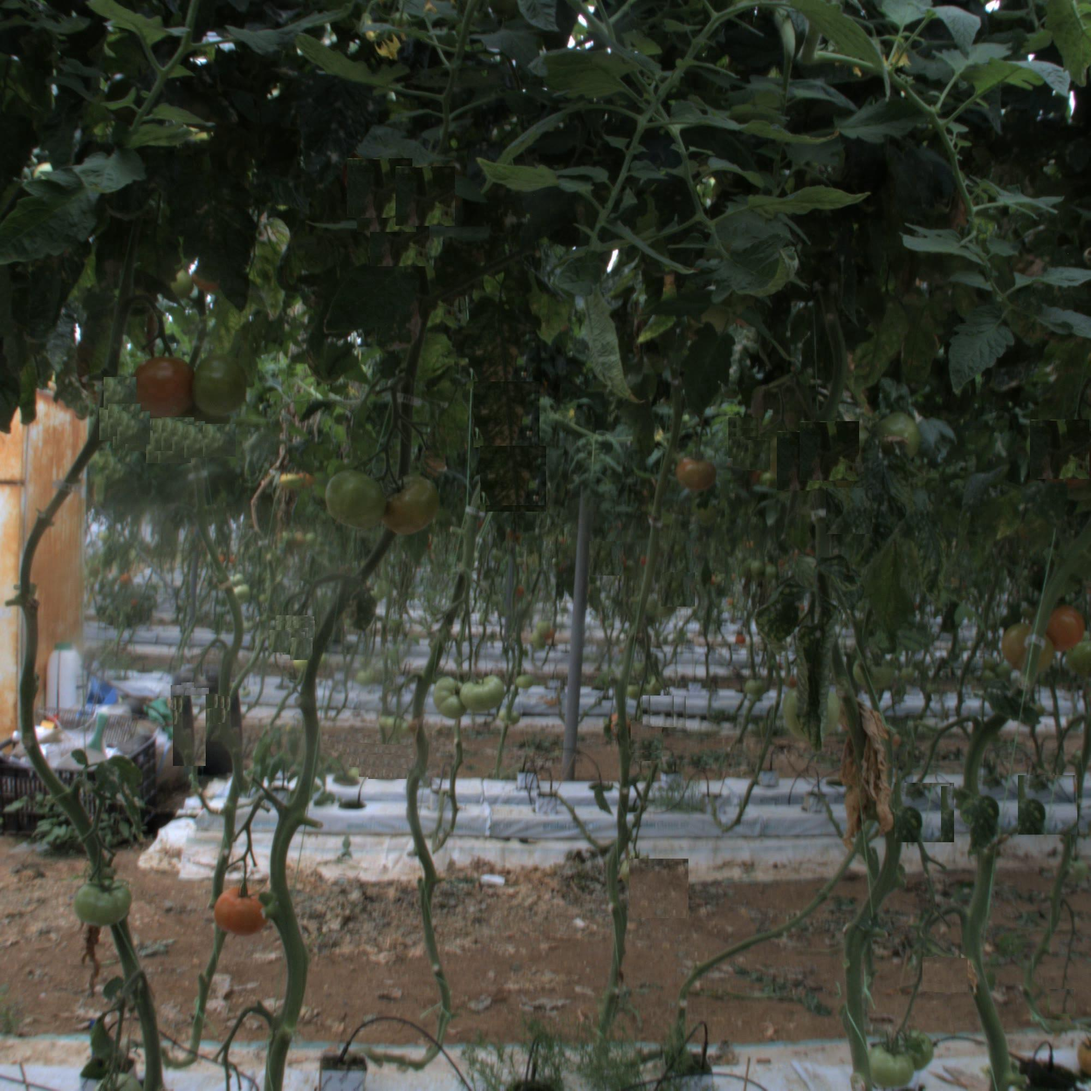['unripe', 'semi-ripe', 'fully-ripe']: (190, 357, 255, 421), (326, 471, 390, 536), (891, 1028, 937, 1074), (873, 413, 918, 458), (463, 673, 508, 718), (77, 878, 122, 922), (872, 1044, 916, 1089), (428, 675, 472, 720)
